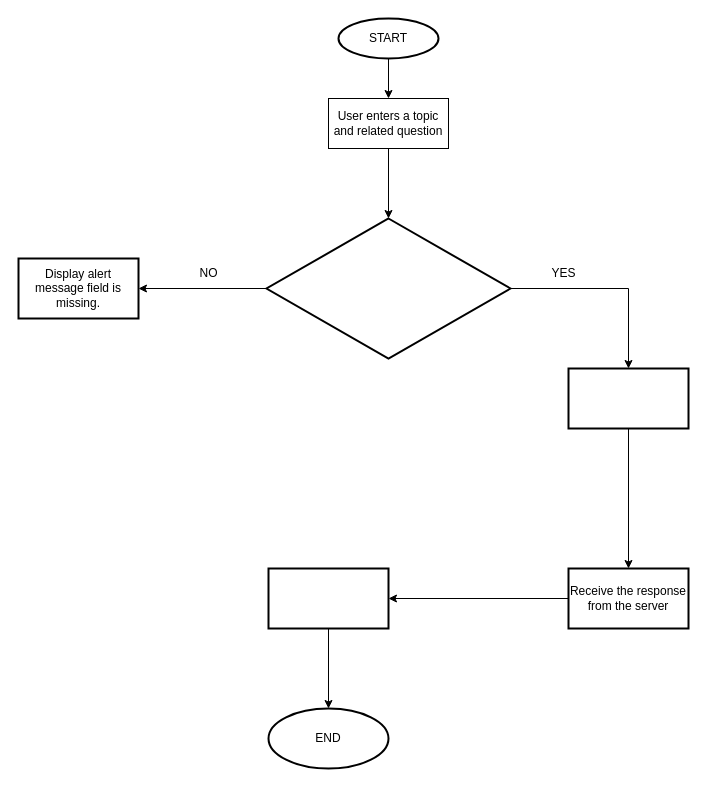
This 706x786 diagram has some shape labels left out. The centre of each missing label's shape, as x and y in pixels:
Check if topic and question are present: the point at 388,288
Display the answer: the point at 328,598
POST request to the /searchQuery: the point at 628,398
